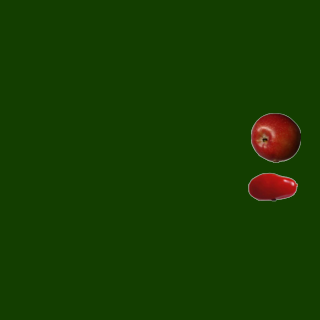Apple Braeburn: (250, 112, 300, 162)
Tomato 2: (247, 161, 297, 211)
